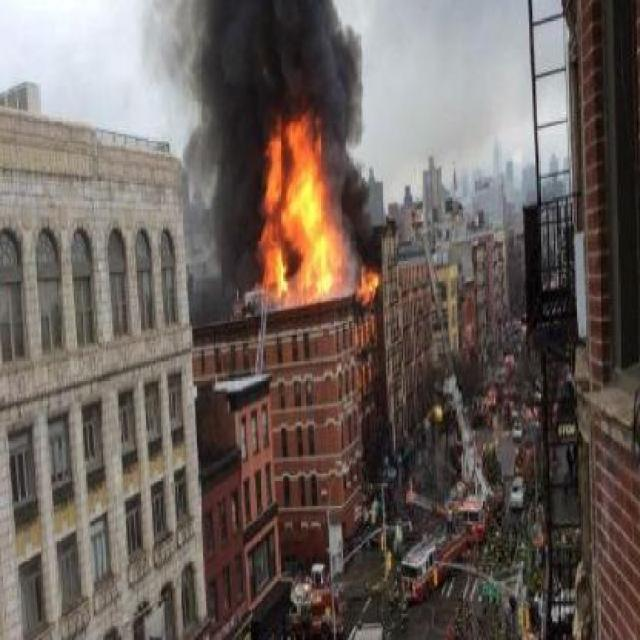Fire: (220, 127, 409, 339)
Smoke: (162, 0, 420, 121)
